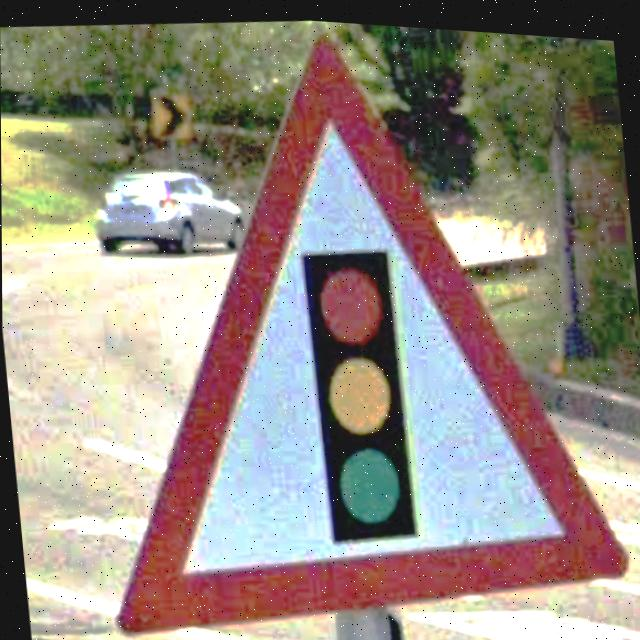signalahead: (115, 30, 630, 634)
